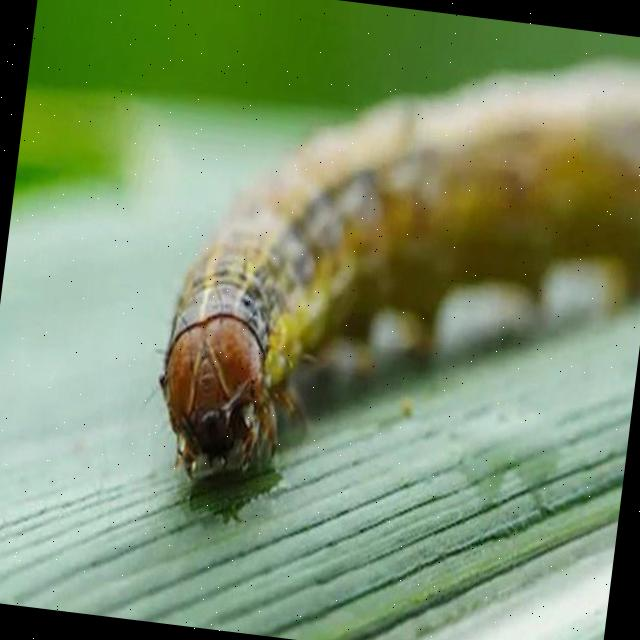worm: (139, 1, 640, 574), (139, 146, 399, 544)
